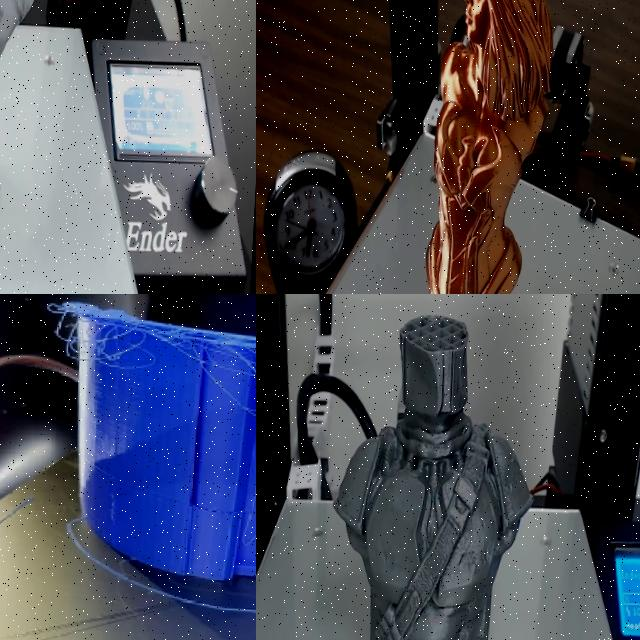spaghetti: (35, 294, 256, 451)
